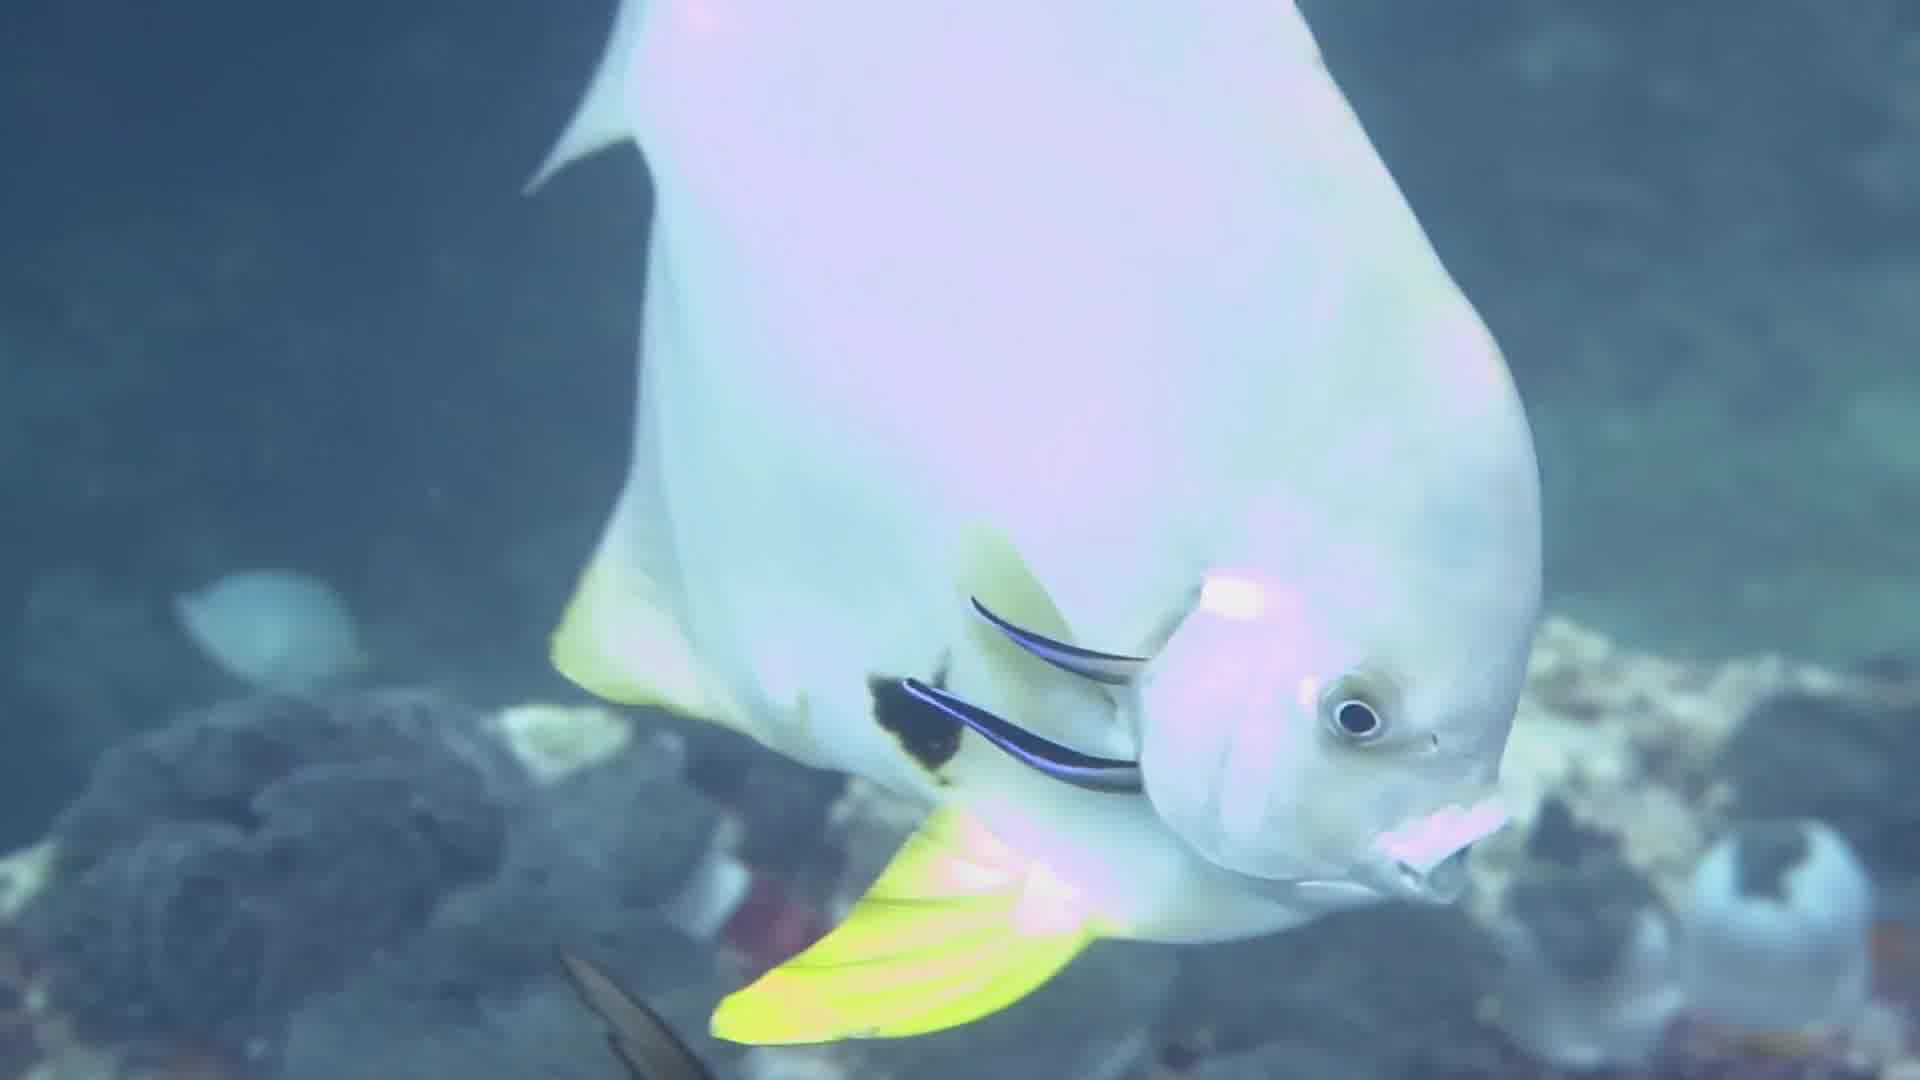Platax teira: (527, 1, 1569, 1080)
